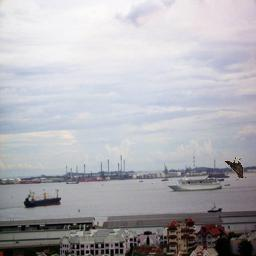Crow: (224, 158, 246, 179)
